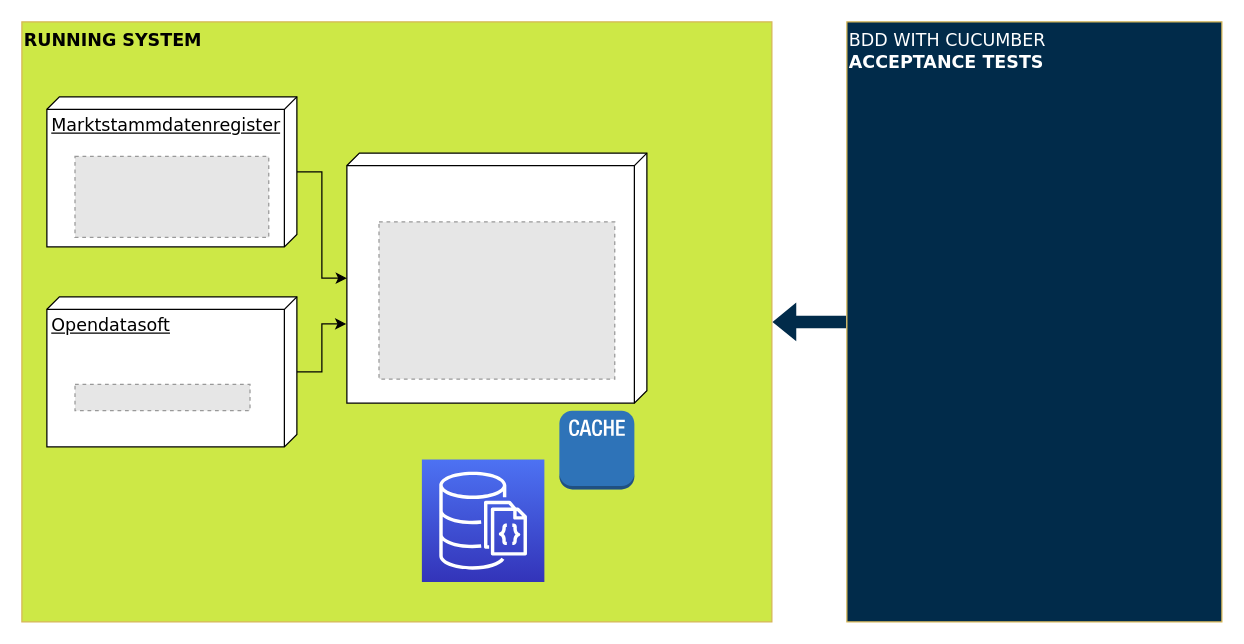
Image size: 1244x644. Some labels were removed from this diagram. Grey dashed boxes stand in for pictures. The box of each missing label's shape, as (x1, y1, x2, y2) in pixels:
Database: (421, 458, 544, 582)
LocalEnergyCharts: (346, 152, 647, 403)
